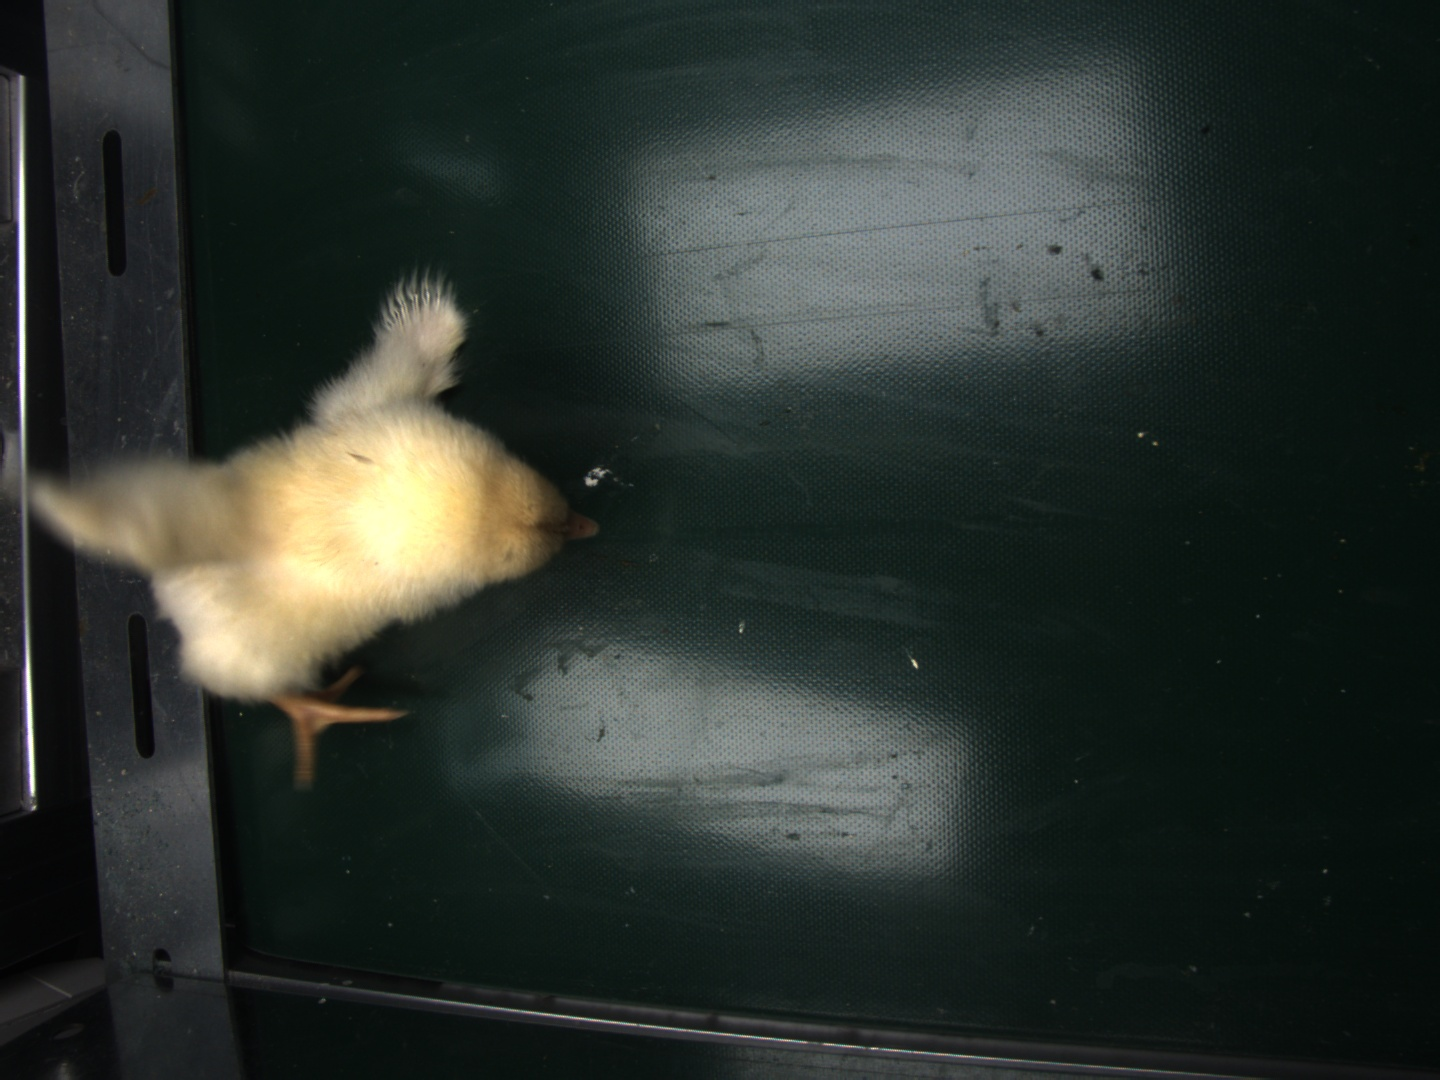male: (386, 288, 444, 334)
